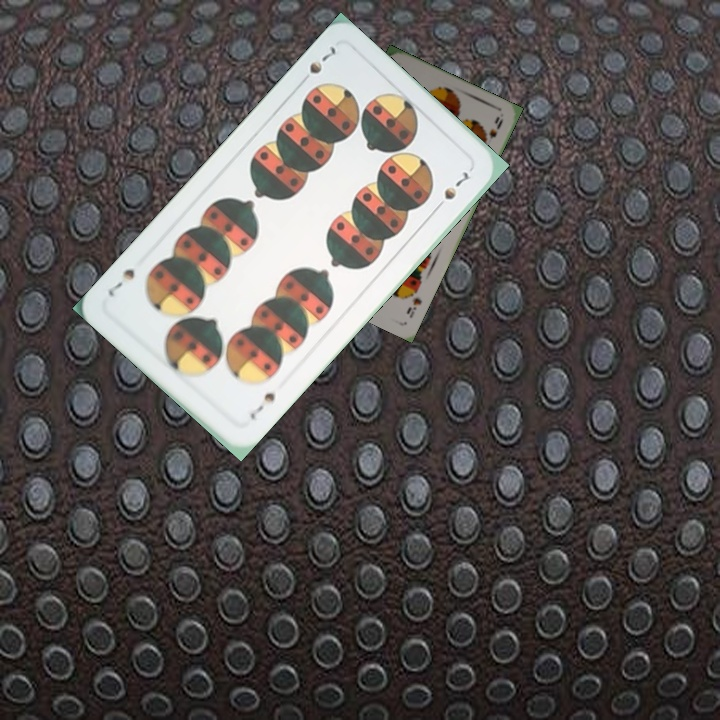S7: (294, 41, 338, 88), (245, 388, 278, 423)
S9: (402, 293, 425, 320)
